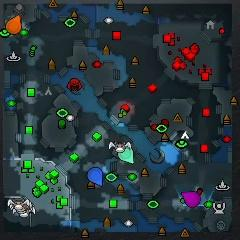p1: (87, 167, 103, 187)
p2: (117, 145, 134, 164)
p3: (181, 191, 201, 208)
p5: (6, 15, 22, 34)
